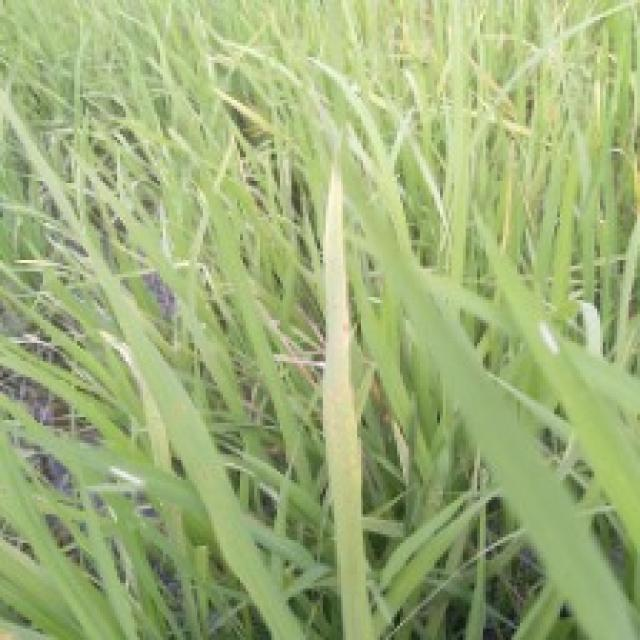Rice___Brown_Spot: (319, 156, 377, 637)
